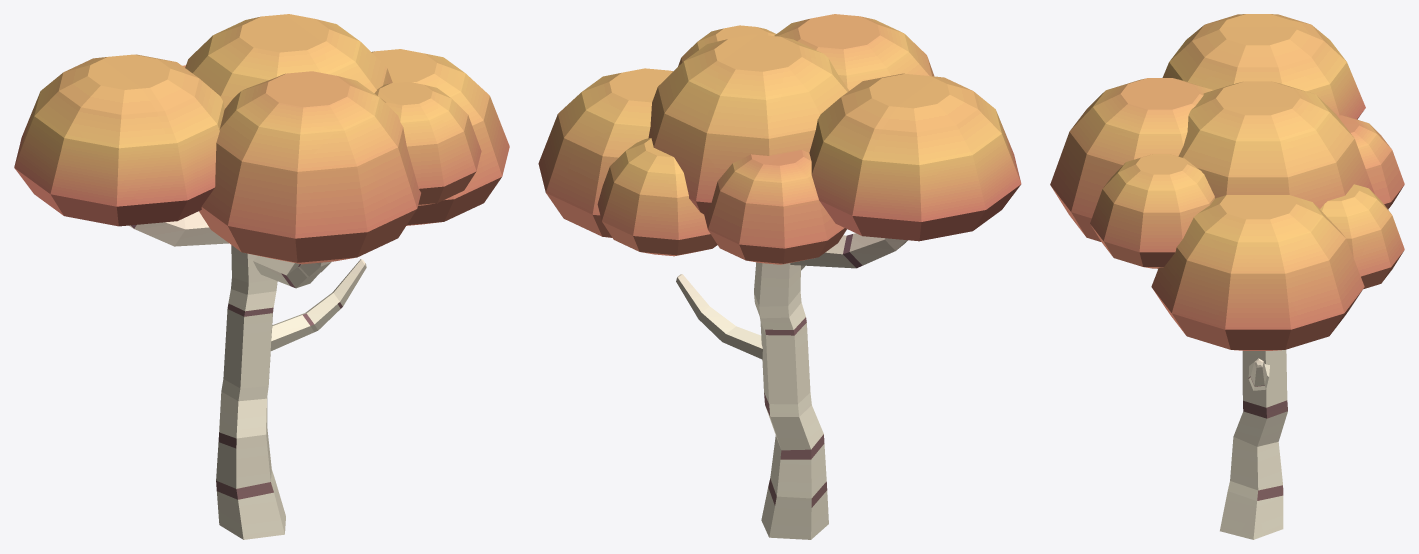
File: birch.obj
3 renders of one model, left to right at view 1: azimuth 30°, elevation 25°; view 2: azimuth 150°, elevation 25°; view 3: azimuth 270°, elevation 25°, orthographic. The views are drawn at different scales.
Parts seen in each view (by area): view 1: Birch; view 2: Birch; view 3: Birch.
Part boxes in pixels (bbox=[...]): Birch: bbox=[14, 14, 509, 539]; Birch: bbox=[538, 14, 1021, 539]; Birch: bbox=[1050, 14, 1404, 539].
Size of the model in its own units: 15.11 by 15.11 by 10.99.
Materials: 1 (1 with a texture image).
